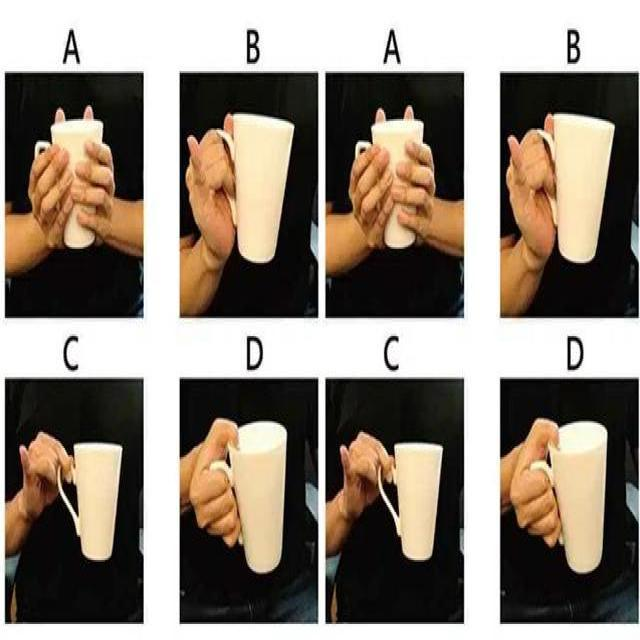cup: (59, 438, 127, 574)
